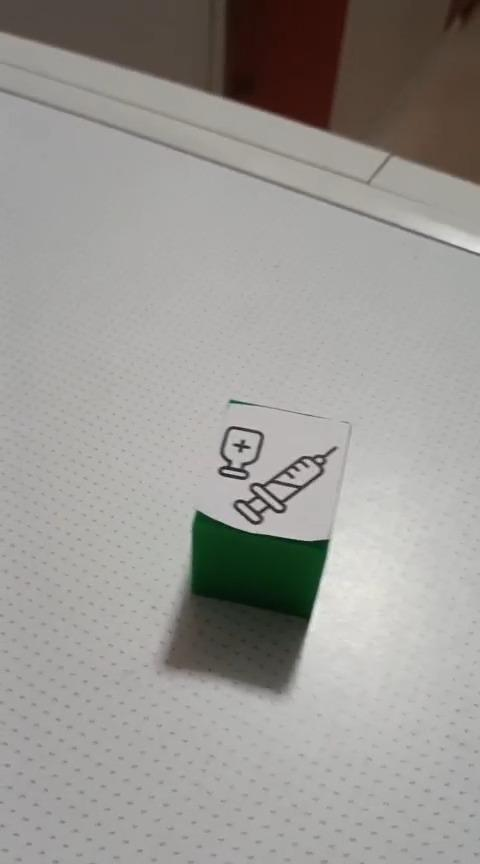antiseptic cream: (187, 397, 352, 621)
